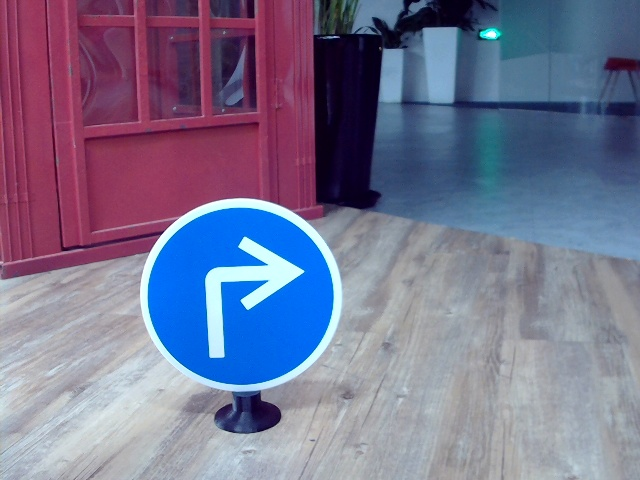turn_right: (200, 234, 299, 358)
